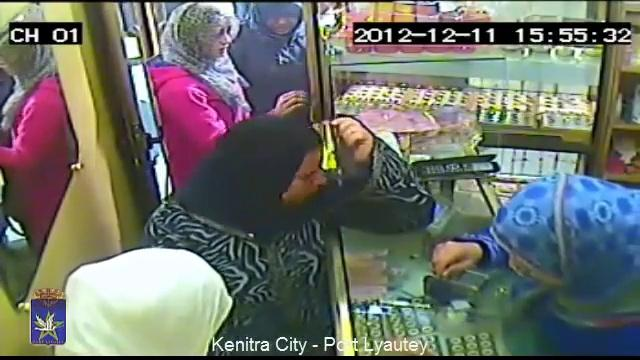Regular: (459, 106, 640, 360), (30, 227, 265, 360), (142, 0, 310, 177), (214, 101, 345, 223), (228, 0, 314, 108)
